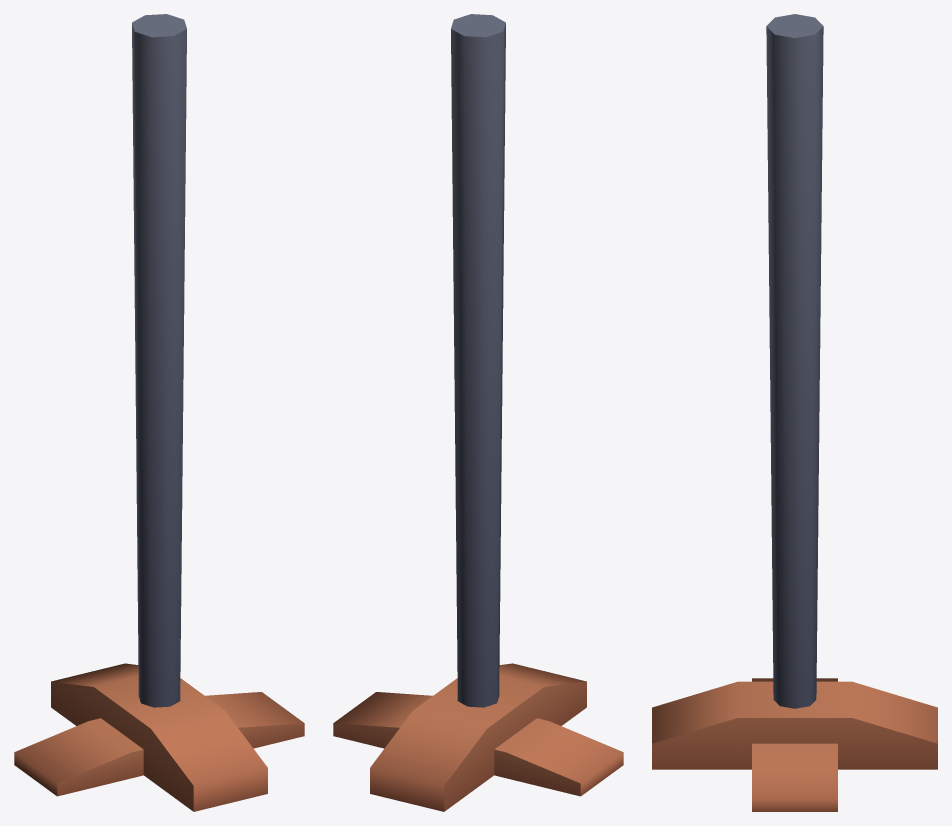
Rendered from festivus-pole.glb.
The picture shows the model from 3 angles, left to right: view 1: azimuth 30°, elevation 25°; view 2: azimuth 150°, elevation 25°; view 3: azimuth 270°, elevation 25°; orthographic projection.
Visible parts, largest first — view 1: festivus-pole; view 2: festivus-pole; view 3: festivus-pole.
Part boxes in pixels (x1,y1,x2,y2): festivus-pole: (14,14,304,811); festivus-pole: (333,14,623,811); festivus-pole: (652,14,937,811).
Bounding box in the file's own units: 0.5 × 1.4 × 0.5.
